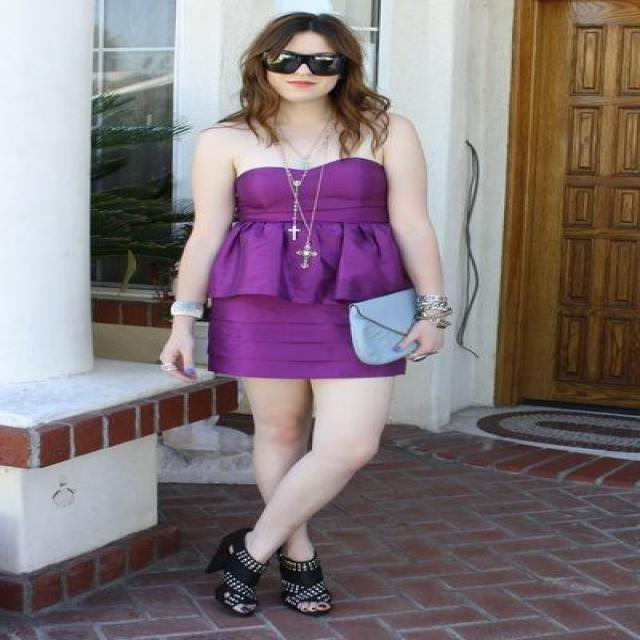bag: (348, 290, 474, 363)
dress: (195, 154, 418, 380)
shoe: (206, 516, 333, 617)
sunglass: (288, 49, 360, 77)
